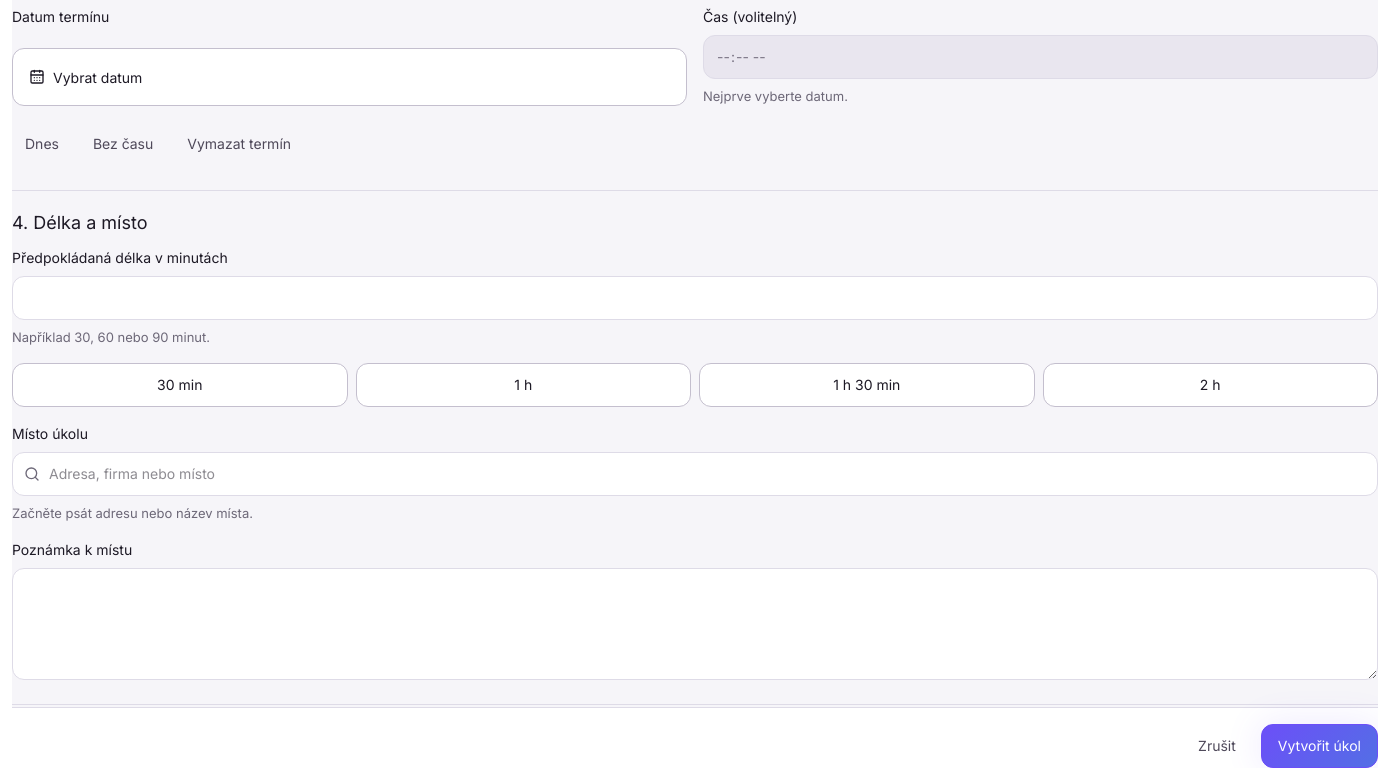
agenda frontend › sets duration preset 1 h 30 min without submitting
(page scrolled)
Click the button "1 h 30 min" at (867, 385), box [699,363,1034,407]
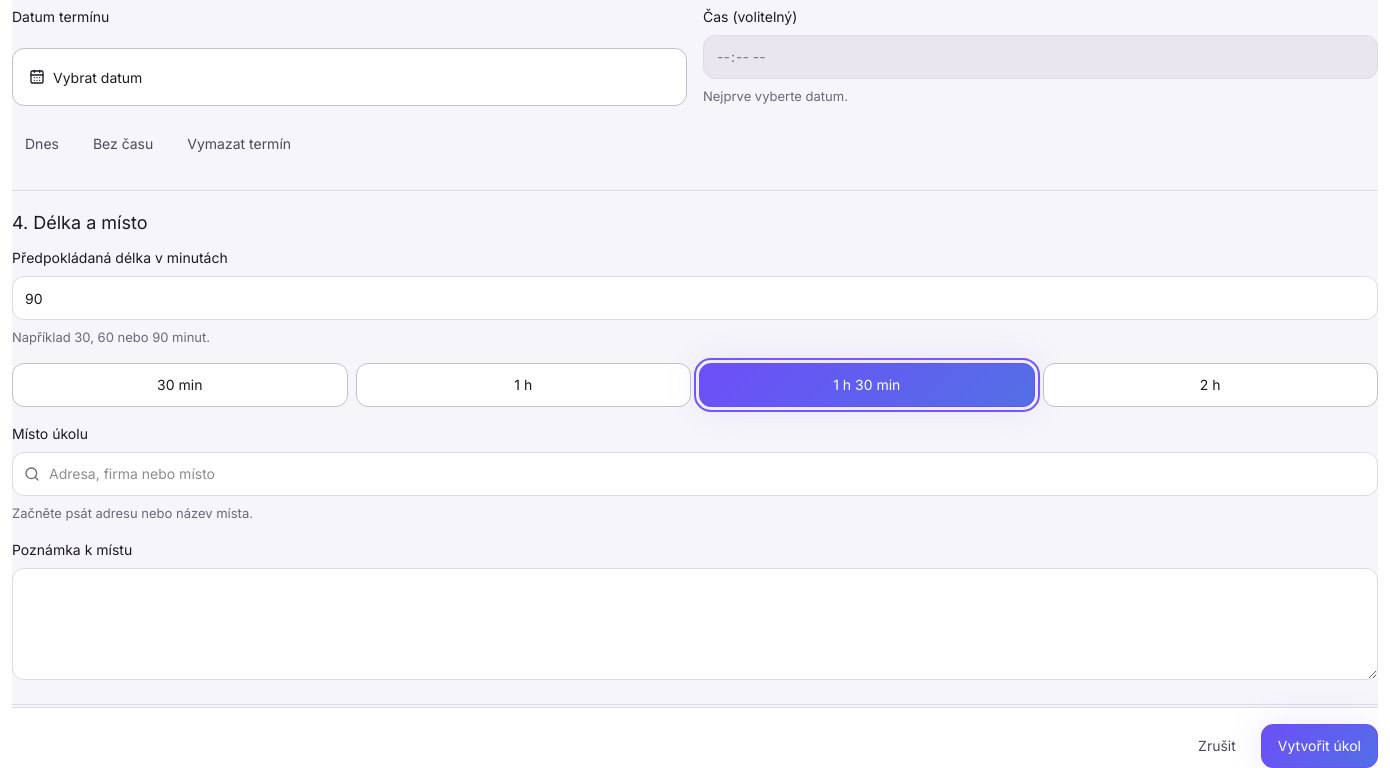
Expected: the number field labelled "Předpokládaná délka v minutách" holds "90", [12,276,1378,320]
